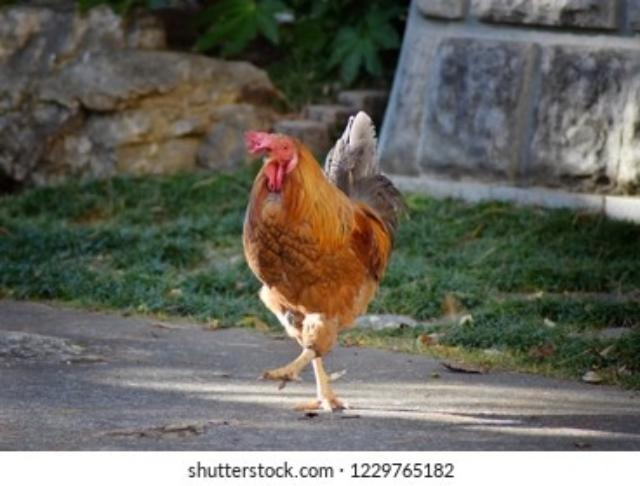Chicken: (241, 112, 406, 416)
